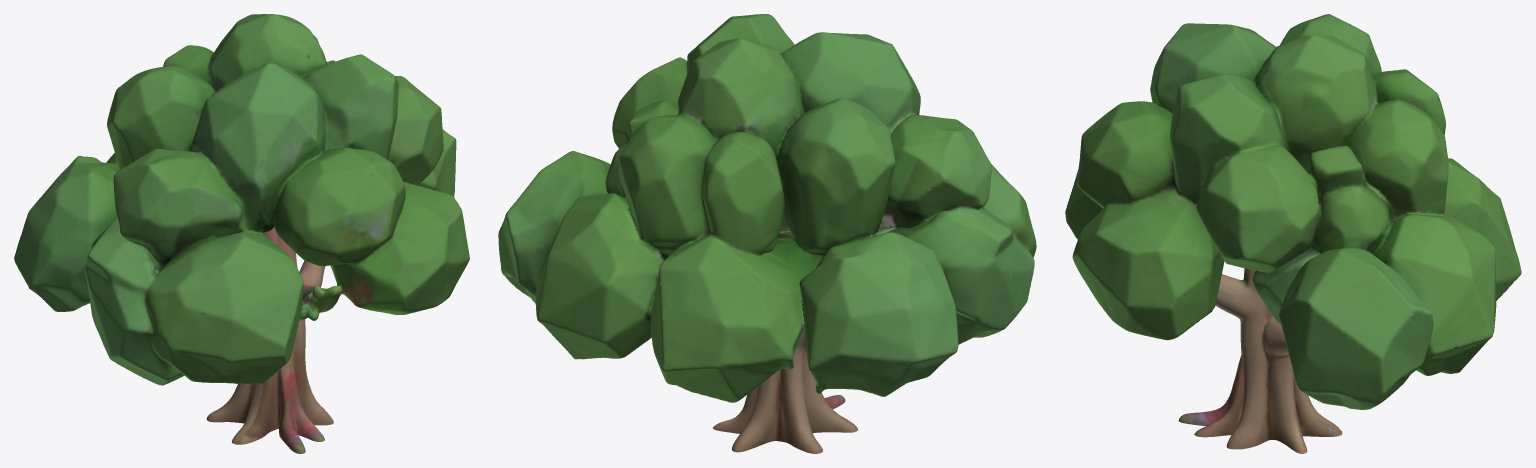
The model's file is tree3.glb.
3 views of the same model, side by side, from view 1: azimuth 30°, elevation 25°; view 2: azimuth 150°, elevation 25°; view 3: azimuth 270°, elevation 25° (orthographic). The views are drawn at different scales.
Visible parts, largest first — view 1: SM_OakTree_Style-02_03_High; view 2: SM_OakTree_Style-02_03_High; view 3: SM_OakTree_Style-02_03_High.
Boxes of the visible parts, <box> form: SM_OakTree_Style-02_03_High: <box>14,14,469,453</box>; SM_OakTree_Style-02_03_High: <box>498,14,1036,453</box>; SM_OakTree_Style-02_03_High: <box>1065,14,1521,453</box>.
Bounding box in the file's own units: 1.02 × 0.883 × 0.9078.
1 material, 1 textured.
